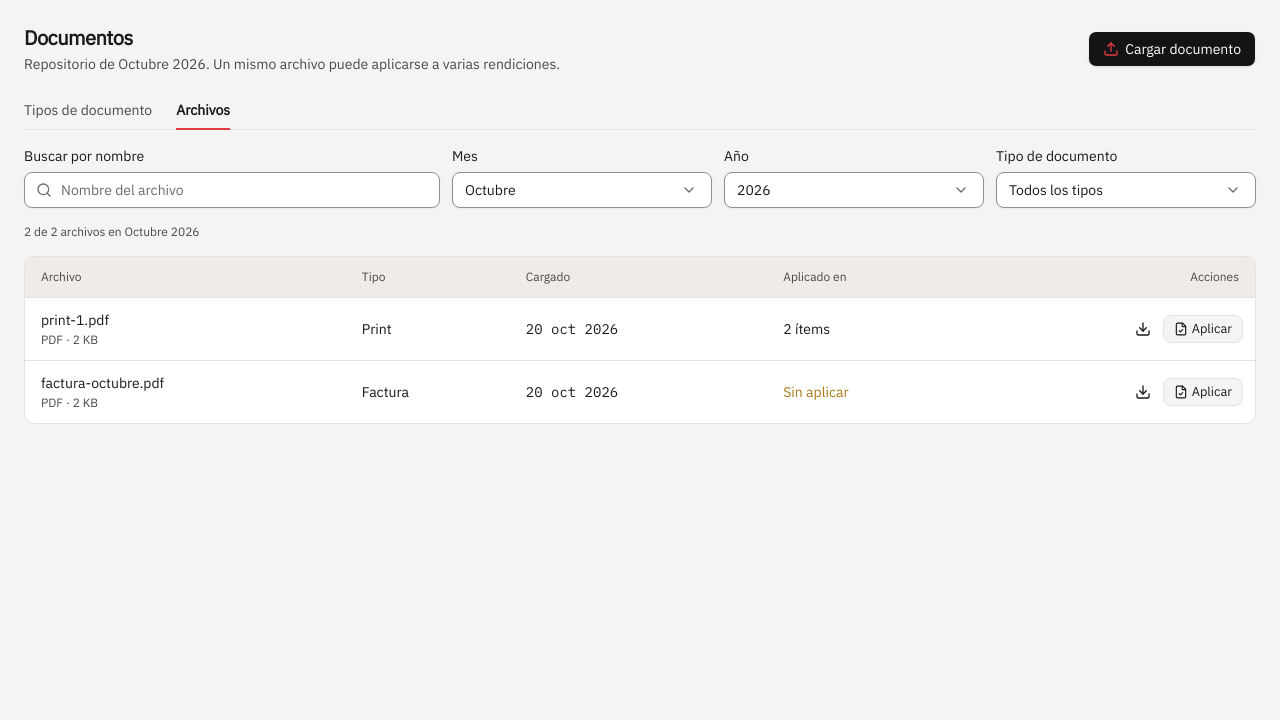
Scenario: ArchivosPage: asistente de carga y aplicación › reutiliza un documento ya cargado del período, sin subir nada
This screenshot has width=1280, height=720.
Expected: the button "print-1.pdf" is shown, left=41, top=310, right=109, bottom=330
Step 1. Click the button "Cargar documento" → (1172, 49), box left=1088, top=31, right=1256, bottom=67
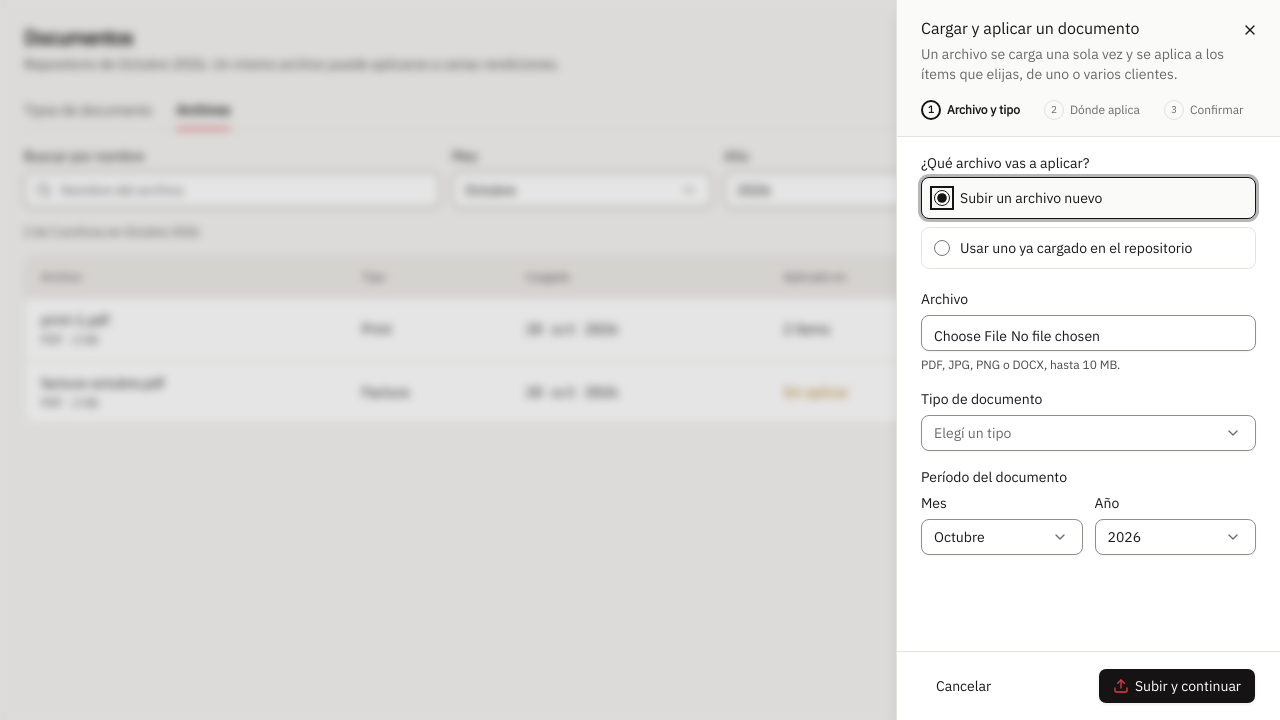
Step 2. Click the radio button labelled "Usar uno ya cargado en el repositorio" → (942, 248), box left=934, top=240, right=950, bottom=256
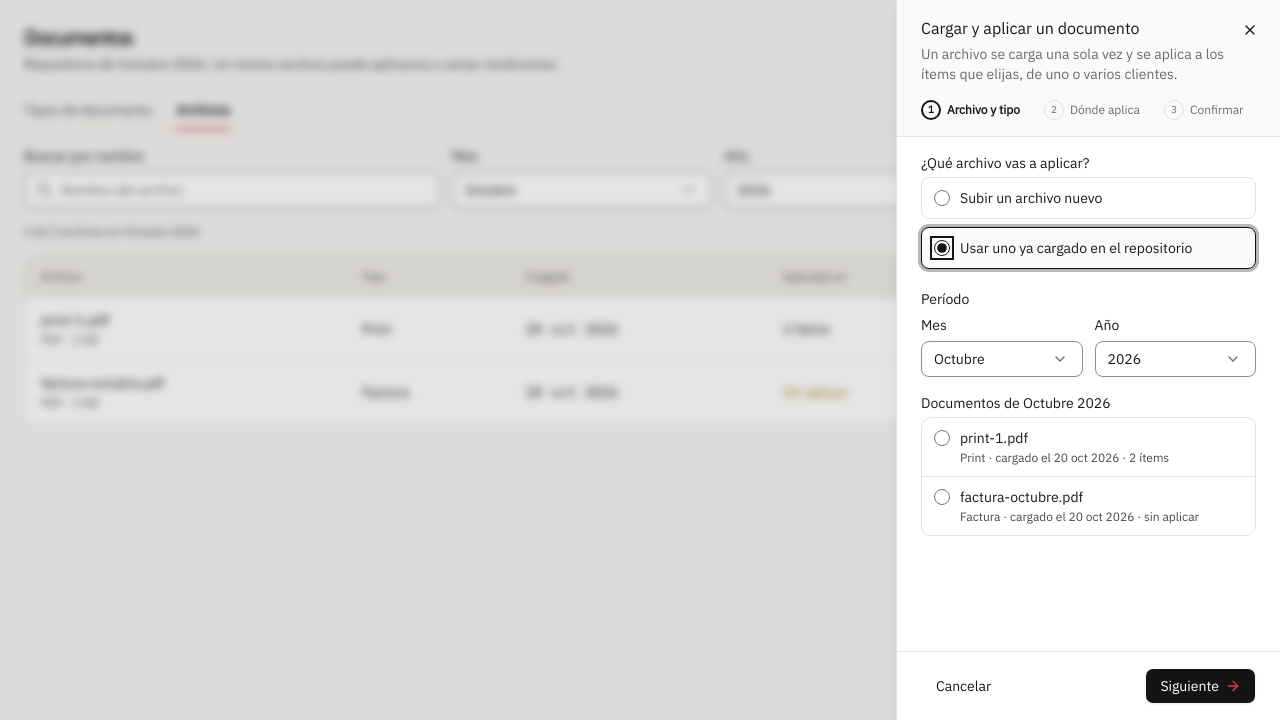
Step 3. Click the radio button labelled "print-1.pdf Print · cargado el 20 oct 2026 · 2 ítems" → (942, 438), box left=934, top=430, right=950, bottom=446
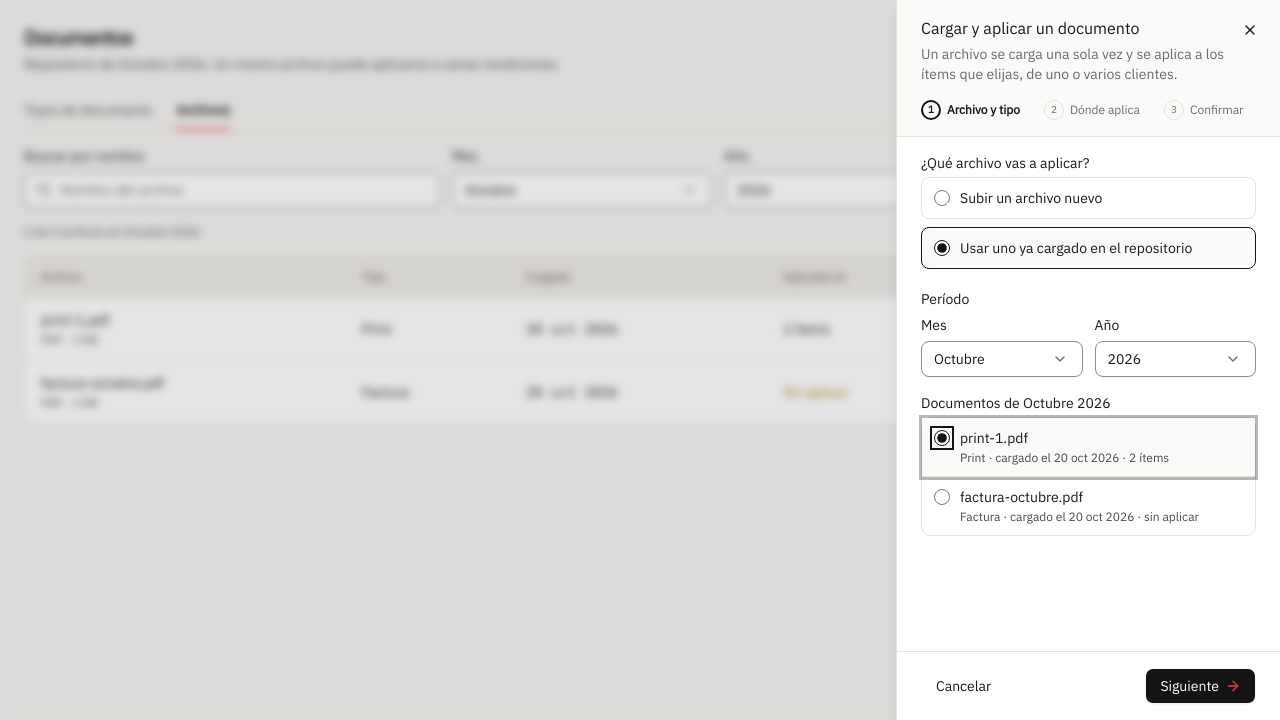
Step 4. Click the button "Siguiente" → (1201, 686), box left=1145, top=668, right=1256, bottom=704
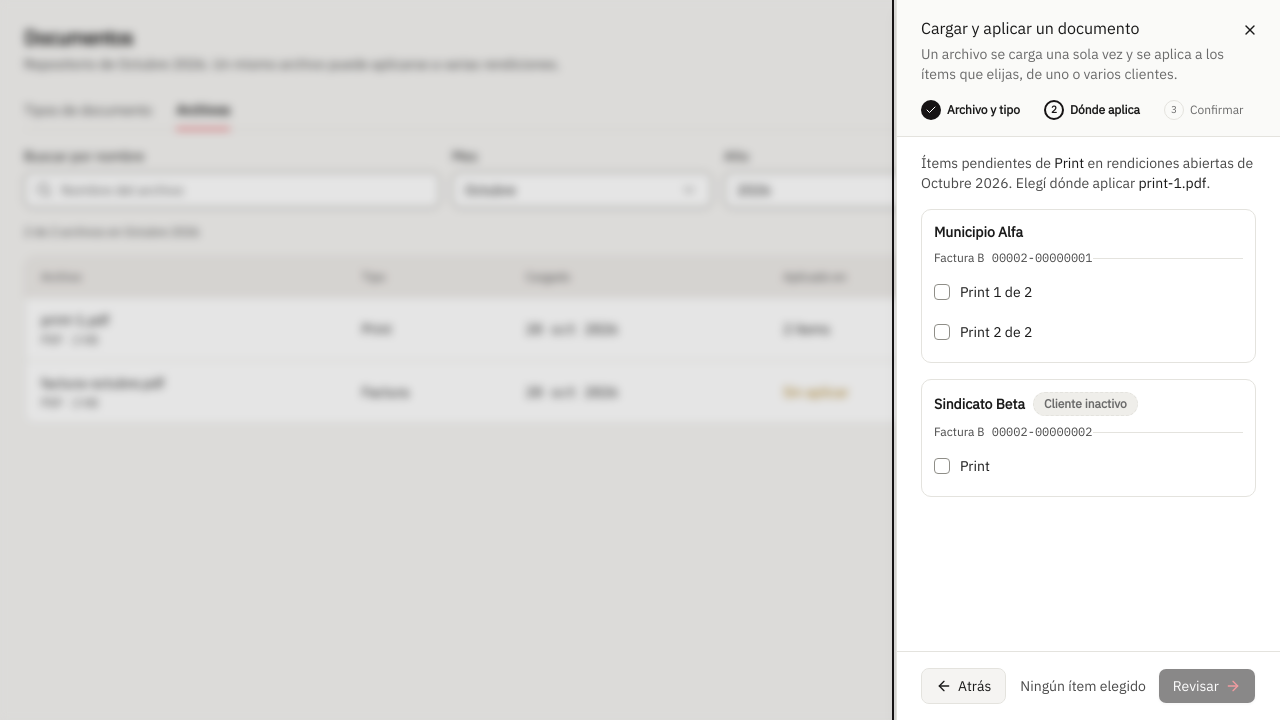
Expected: the element "Municipio Alfa" is shown, left=921, top=209, right=1256, bottom=363
